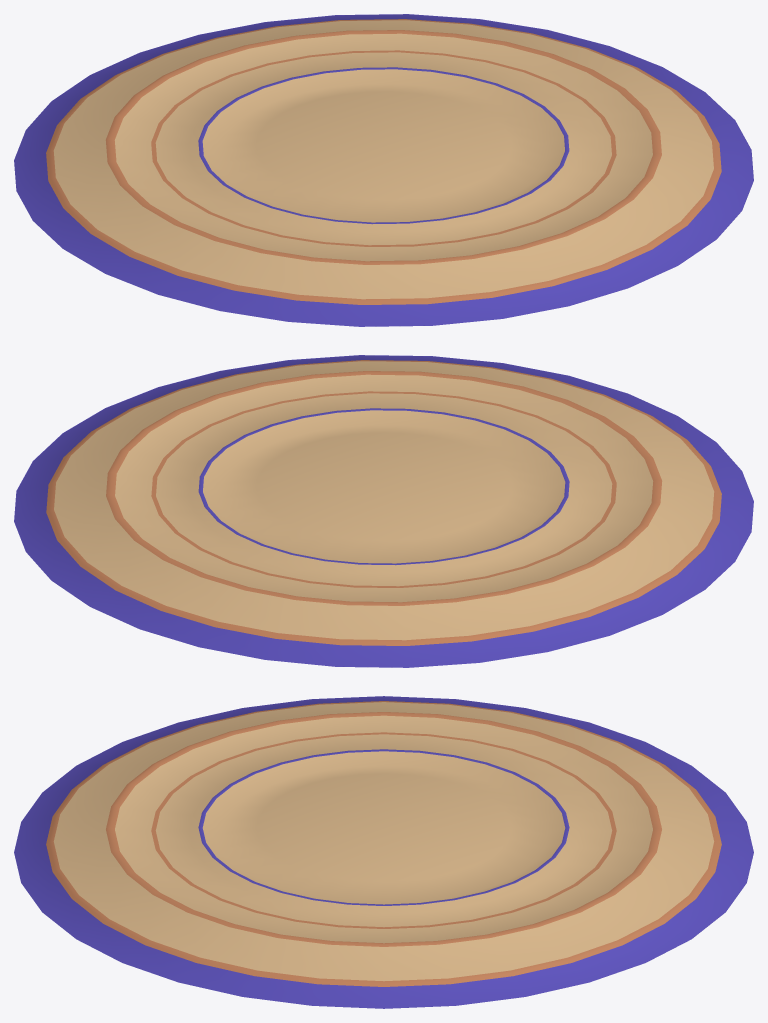
File: SM_SphereOff.fbx
The picture shows the model from 3 angles, top to bottom: view 1: azimuth 30°, elevation 25°; view 2: azimuth 150°, elevation 25°; view 3: azimuth 270°, elevation 25°; orthographic projection.
Visible parts, largest first — view 1: Cylinder.001; view 2: Cylinder.001; view 3: Cylinder.001.
Part boxes in pixels (bbox=[...]): Cylinder.001: bbox=[14, 14, 753, 326]; Cylinder.001: bbox=[14, 355, 753, 667]; Cylinder.001: bbox=[14, 696, 753, 1008].
Bounding box in the file's own units: 2.55 × 0.1875 × 2.54.
